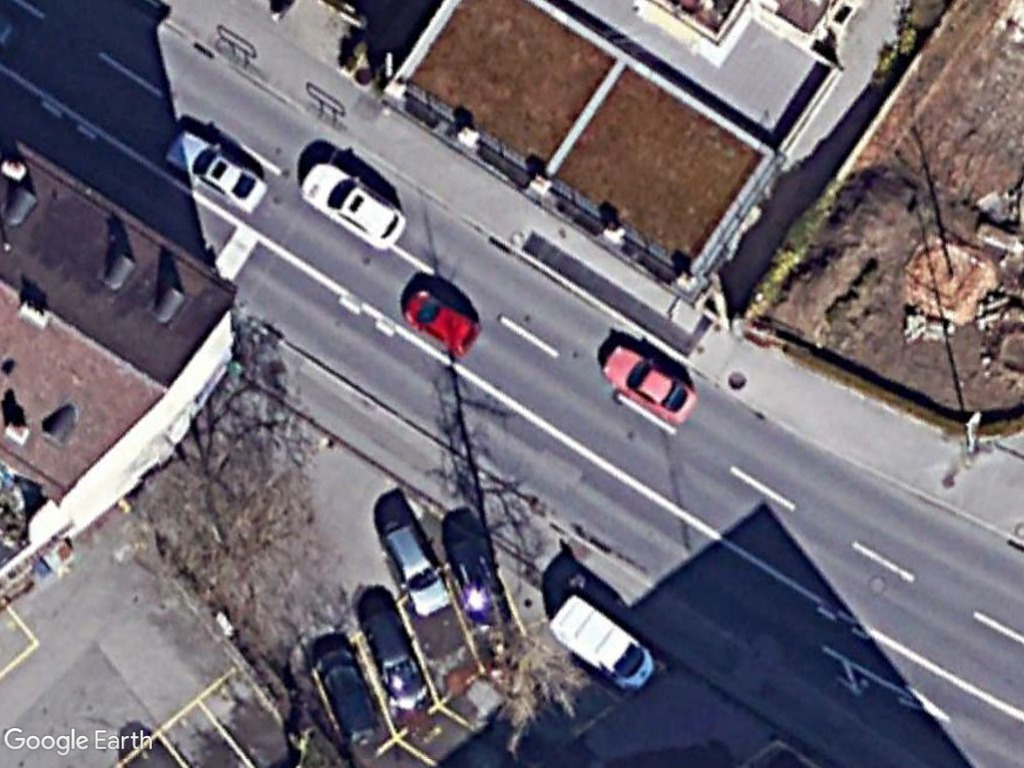car: (297, 155, 407, 256), (594, 336, 698, 428), (165, 126, 270, 214), (361, 604, 432, 719), (382, 518, 454, 620), (399, 282, 487, 360)
van: (551, 592, 655, 695)
